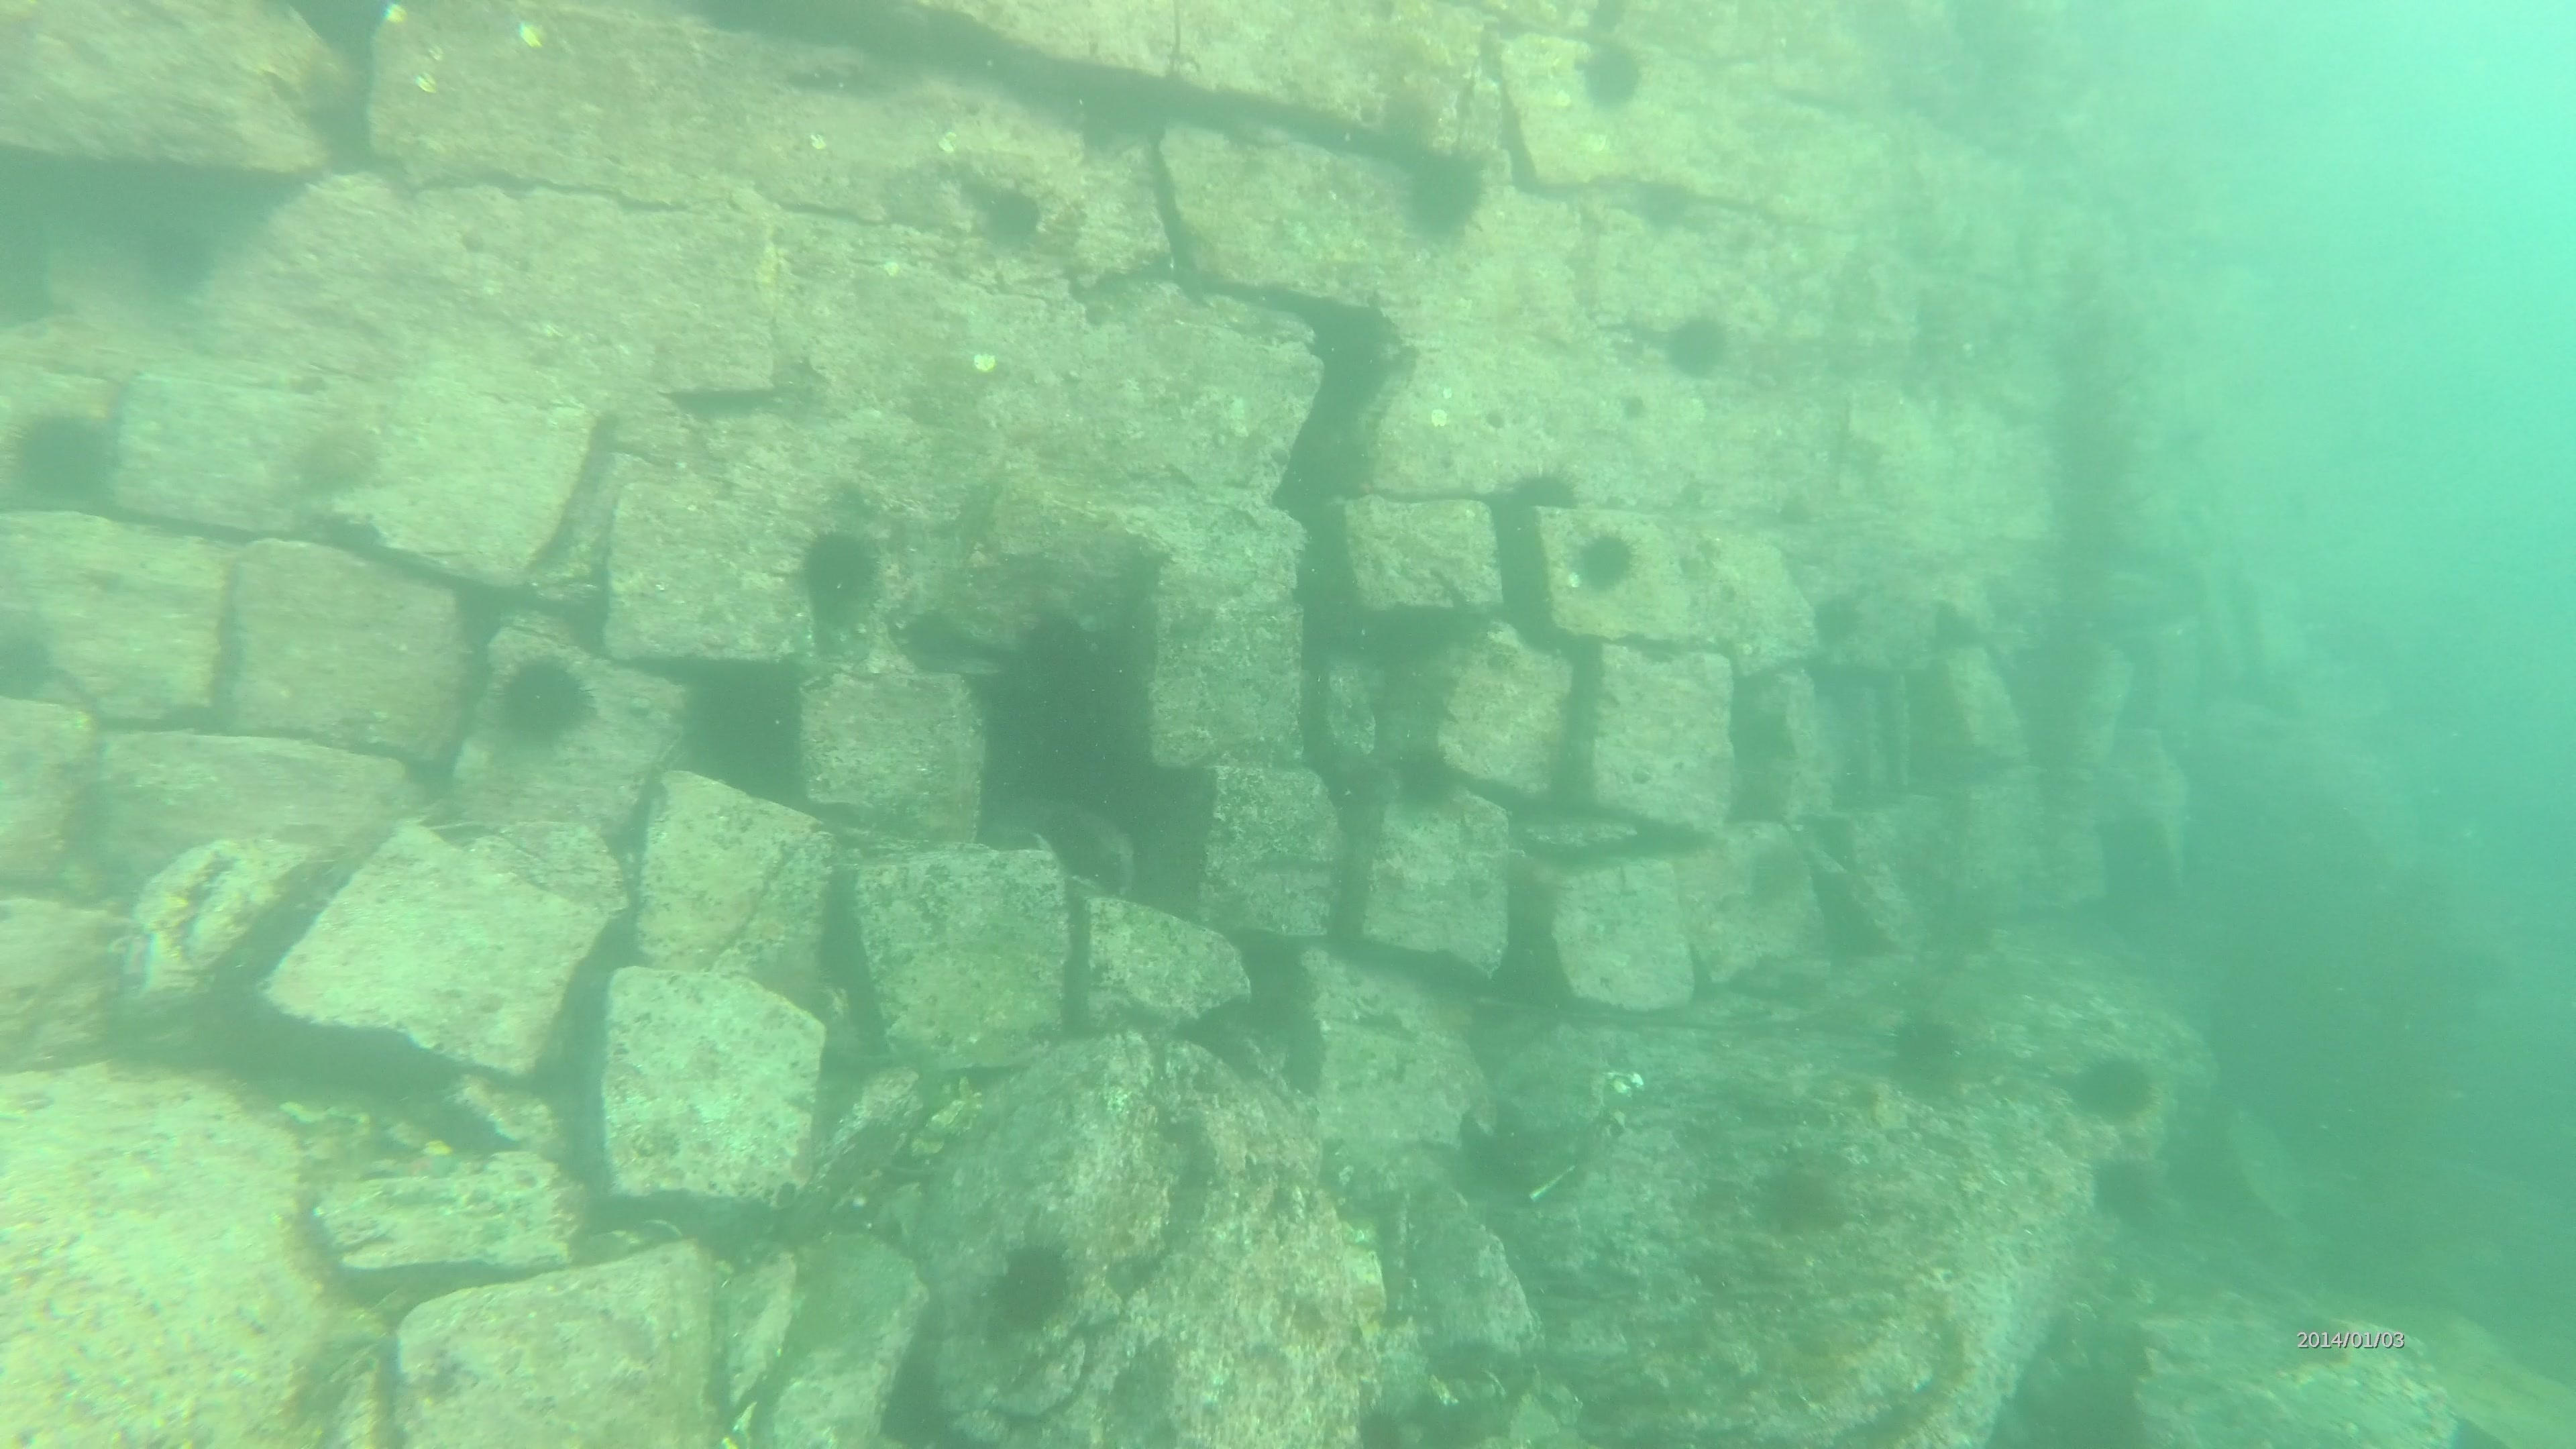echinus: (5, 403, 120, 517), (978, 1230, 1083, 1338), (1394, 138, 1495, 248), (492, 649, 598, 752), (789, 522, 888, 630), (1877, 1005, 1974, 1106), (1748, 1150, 1852, 1244), (283, 414, 389, 502), (127, 211, 225, 304), (2063, 1044, 2162, 1131), (892, 602, 987, 679), (966, 175, 1053, 260), (0, 603, 65, 709), (2086, 1148, 2167, 1233), (1571, 35, 1652, 119), (1385, 738, 1467, 821), (1656, 304, 1737, 386), (1621, 168, 1704, 241), (1488, 460, 1582, 524), (1566, 524, 1644, 600), (1805, 586, 1870, 655)
